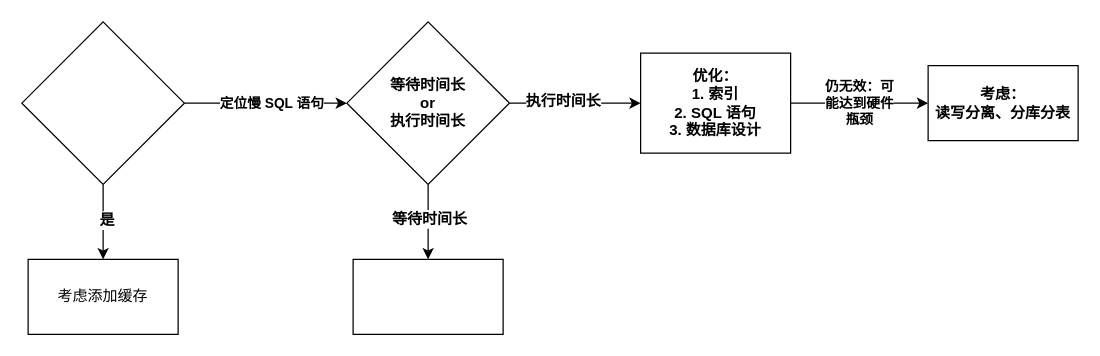
The diagram is 1100 pixels wide and 356 high, and some of its shapes have lost their labels. Here are the shapes that lost their labels. From the top down, the centre of each, then its label:
At point 102,102: "是否存在周期性波动".
At point 427,296: "调优服务器参数".
